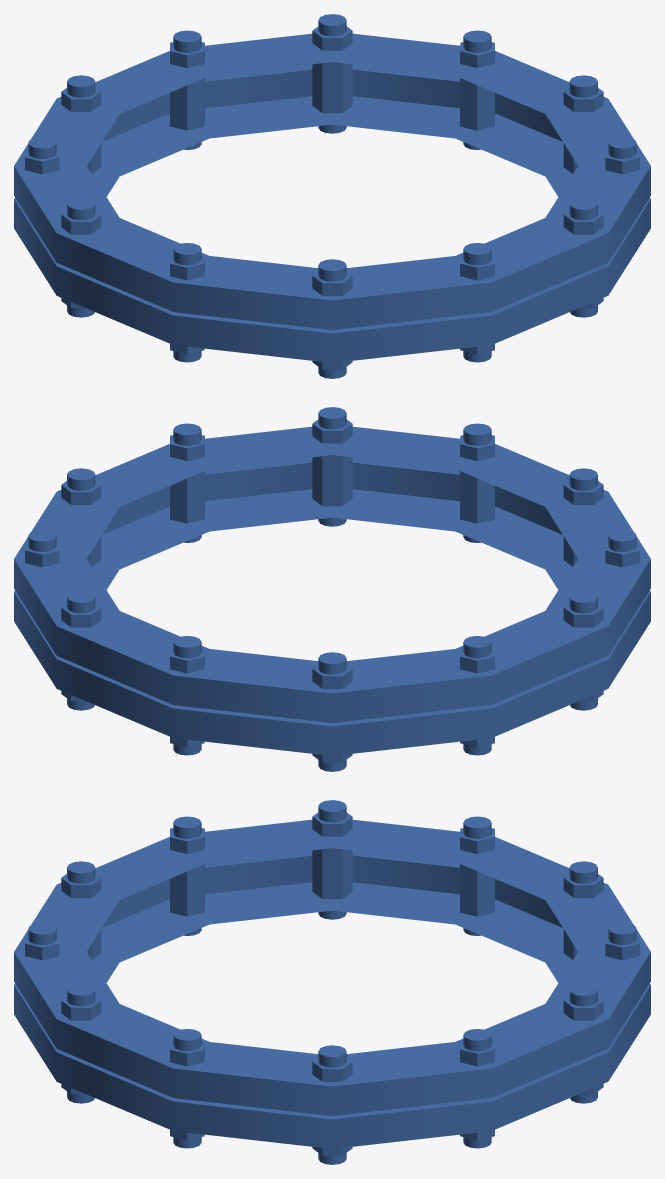
Rendered from SM_Pipe_InlineJoin_01.fbx.
3 renders of one model, top to bottom at view 1: azimuth 30°, elevation 25°; view 2: azimuth 150°, elevation 25°; view 3: azimuth 270°, elevation 25°, orthographic.
Parts seen in each view (by area): view 1: SM_Pipe_InlineJoin; view 2: SM_Pipe_InlineJoin; view 3: SM_Pipe_InlineJoin.
Part boxes in pixels (left/top/right/bottom): SM_Pipe_InlineJoin: left=14, top=14, right=650, bottom=378; SM_Pipe_InlineJoin: left=14, top=407, right=650, bottom=771; SM_Pipe_InlineJoin: left=14, top=800, right=650, bottom=1164.
Size of the model in its own units: 32.13 by 5.99 by 32.13.
